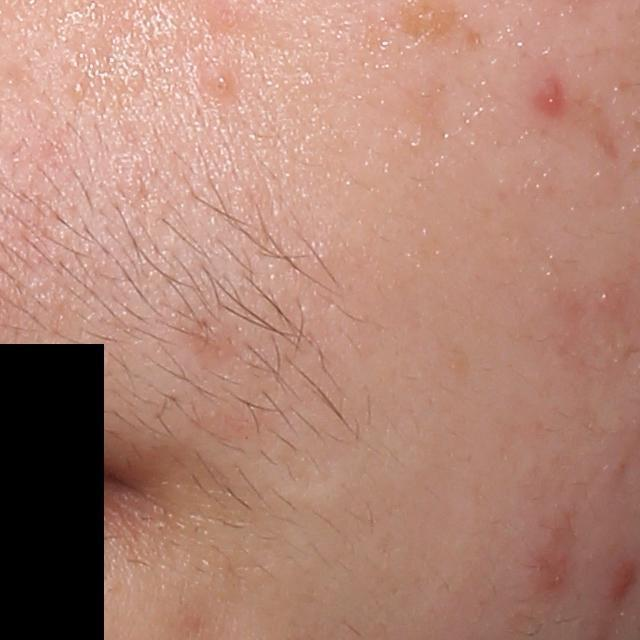comedo: (209, 68, 240, 102)
papule: (536, 81, 573, 118), (610, 559, 635, 605)
